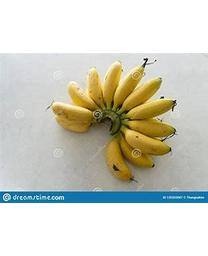banana: (48, 56, 176, 186)
